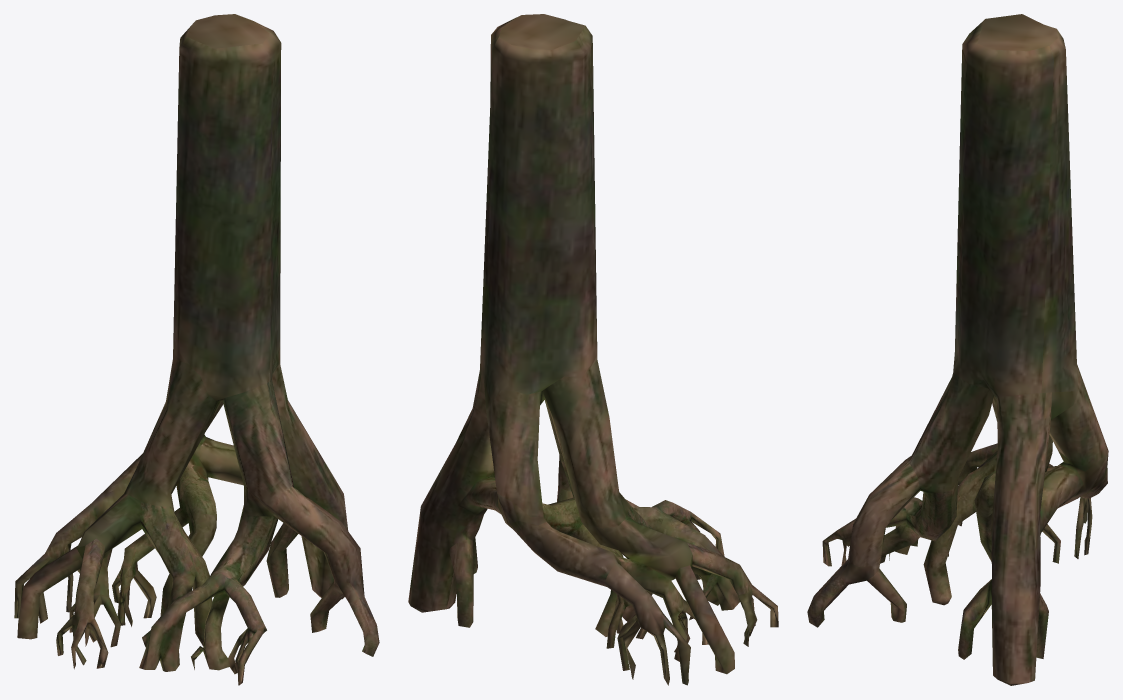
Rendered from mangrove-roots.lod0.glb.
3 renders of one model, left to right at view 1: azimuth 30°, elevation 25°; view 2: azimuth 150°, elevation 25°; view 3: azimuth 270°, elevation 25°, orthographic. The views are drawn at different scales.
Visible parts, largest first — view 1: tree:polySurface1_lambert1_0; view 2: tree:polySurface1_lambert1_0; view 3: tree:polySurface1_lambert1_0.
Boxes of the visible parts, x1,y1,x2,y2 form: tree:polySurface1_lambert1_0: [14, 14, 379, 685]; tree:polySurface1_lambert1_0: [408, 14, 778, 685]; tree:polySurface1_lambert1_0: [807, 14, 1108, 685].
Bounding box in the file's own units: 1.49 × 2.59 × 1.19.
Materials: 1 (1 with a texture image).
